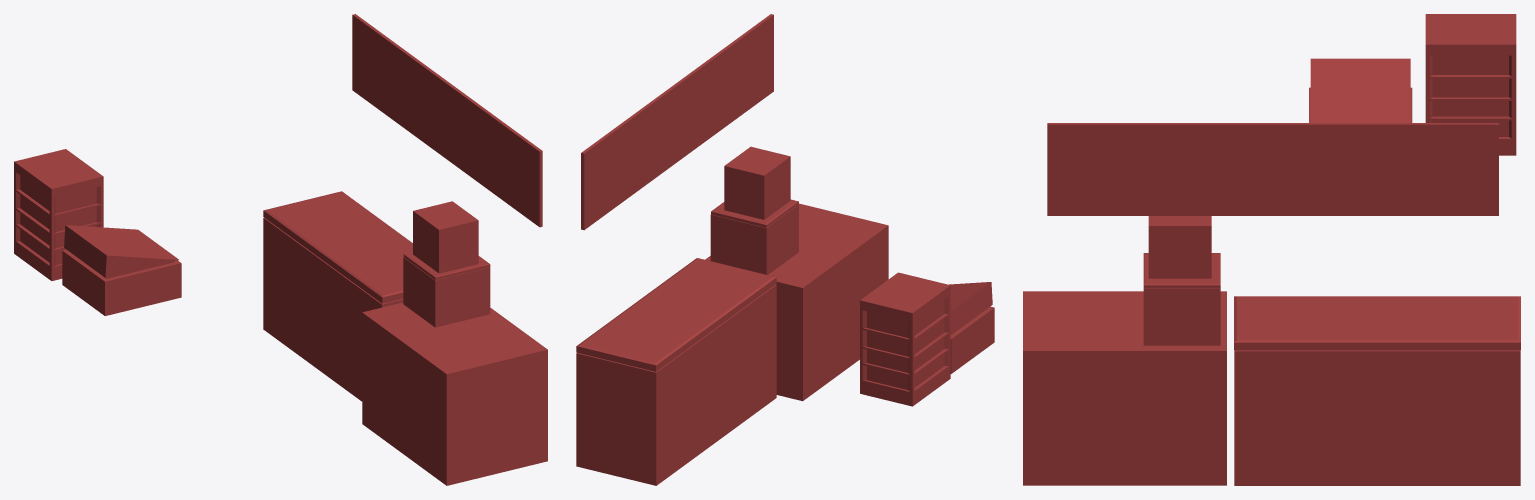
Rendered from bahayNiSiomai.fbx.
The picture shows the model from 3 angles, left to right: view 1: azimuth 30°, elevation 25°; view 2: azimuth 150°, elevation 25°; view 3: azimuth 270°, elevation 25°; orthographic projection. The views are drawn at different scales.
Parts seen in each view (by area): view 1: surface, freezer, menu, casher, steamer, cooler, gulaman; view 2: freezer, surface, menu, steamer, cooler, gulaman, casher; view 3: freezer, menu, surface, steamer, casher, cooler, gulaman.
Part boxes in pixels (x1=…): surface: x1=362, y1=302, x2=547, y2=485; freezer: x1=263, y1=191, x2=412, y2=401; menu: x1=352, y1=14, x2=542, y2=227; casher: x1=62, y1=225, x2=181, y2=315; steamer: x1=14, y1=149, x2=103, y2=280; cooler: x1=403, y1=252, x2=490, y2=327; gulaman: x1=413, y1=201, x2=478, y2=273; freezer: x1=576, y1=258, x2=776, y2=485; surface: x1=705, y1=203, x2=888, y2=401; menu: x1=581, y1=14, x2=773, y2=230; steamer: x1=860, y1=272, x2=950, y2=406; cooler: x1=710, y1=199, x2=798, y2=274; gulaman: x1=724, y1=146, x2=790, y2=219; casher: x1=949, y1=282, x2=994, y2=373; freezer: x1=1234, y1=296, x2=1520, y2=485; menu: x1=1047, y1=123, x2=1498, y2=215; surface: x1=1023, y1=291, x2=1226, y2=485; steamer: x1=1425, y1=14, x2=1516, y2=155; casher: x1=1309, y1=58, x2=1412, y2=122; cooler: x1=1143, y1=253, x2=1220, y2=345; gulaman: x1=1148, y1=216, x2=1211, y2=278.
Size of the model in its own units: 291 by 251 by 311.
